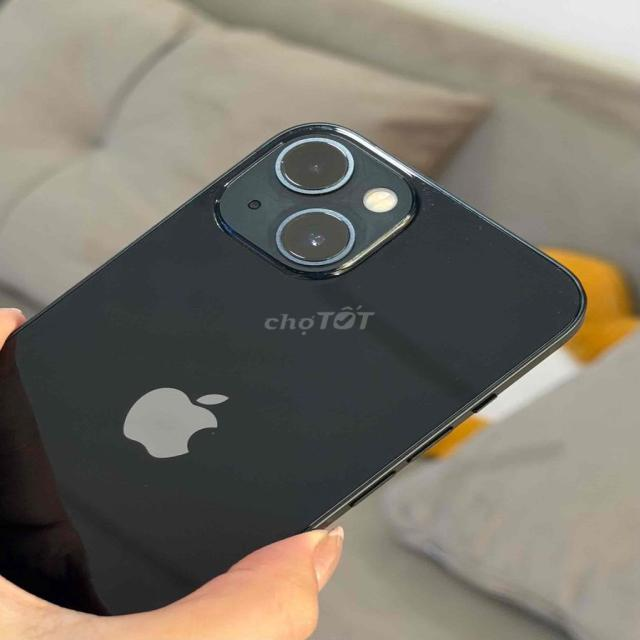gen_12_13: (0, 116, 587, 619)
